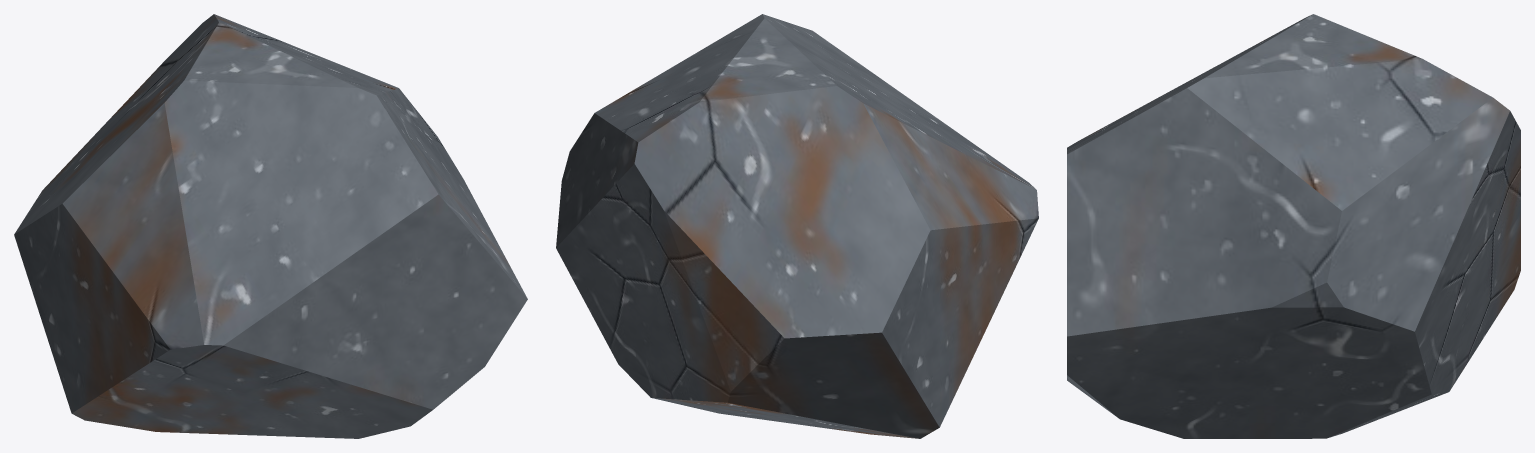
File: metal_chunk.glb
3 renders of one model, left to right at view 1: azimuth 30°, elevation 25°; view 2: azimuth 150°, elevation 25°; view 3: azimuth 270°, elevation 25°, orthographic. The views are drawn at different scales.
Visible parts, largest first — view 1: MetalChunk; view 2: MetalChunk; view 3: MetalChunk.
Boxes of the visible parts, x1,y1,x2,y2 form: MetalChunk: (14, 14, 527, 438); MetalChunk: (556, 14, 1038, 438); MetalChunk: (1067, 14, 1520, 438).
Bounding box in the file's own units: 0.45 × 0.4 × 0.45.
Materials: 1 (1 with a texture image).
